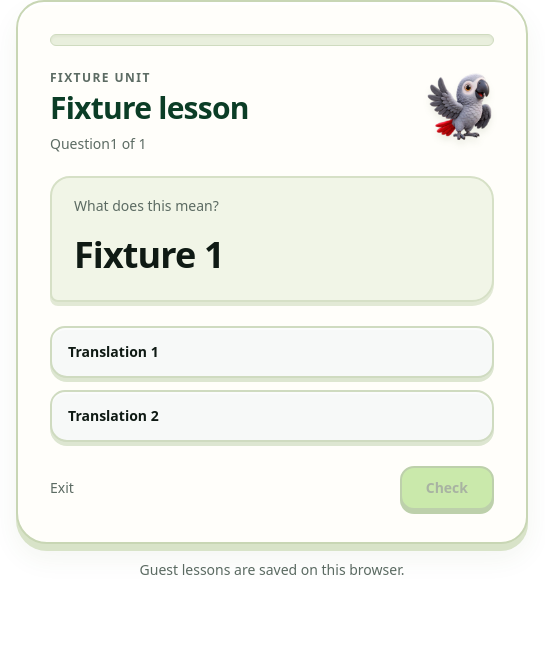
Test: blocked browser storage cannot produce a false saved message and exposes retry
Click the button "Translation 1".
click(113, 352)  # box x1=50 y1=326 x2=494 y2=378
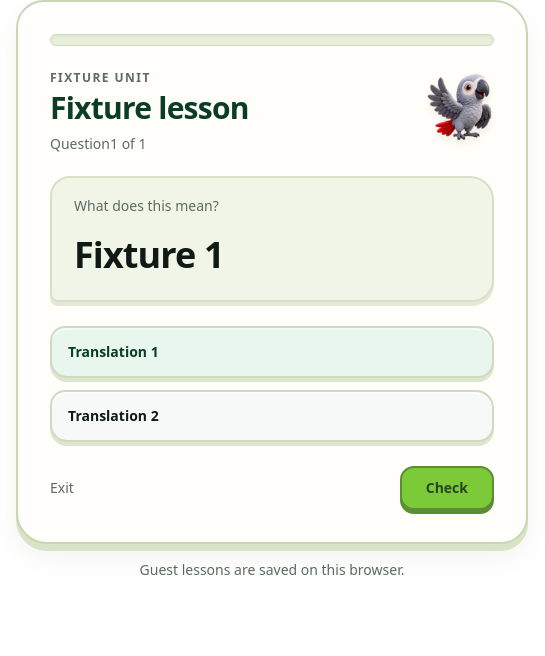
Click the button "Check".
click(447, 488)  # box x1=400 y1=466 x2=494 y2=510
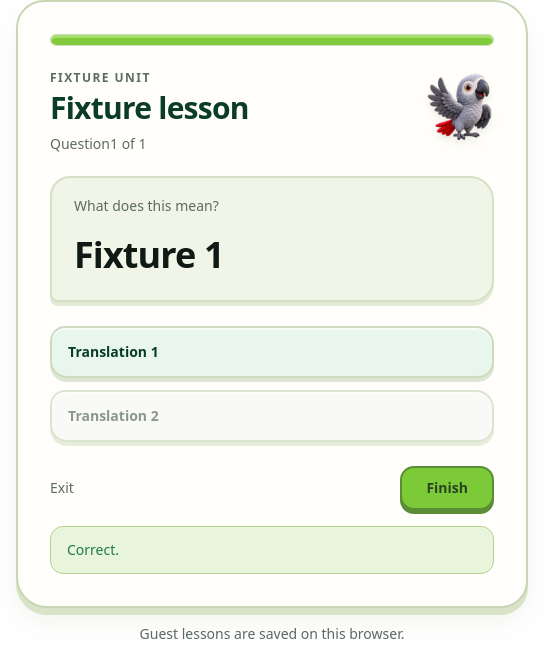
Click the button "Finish".
click(447, 488)  # box x1=400 y1=466 x2=494 y2=510
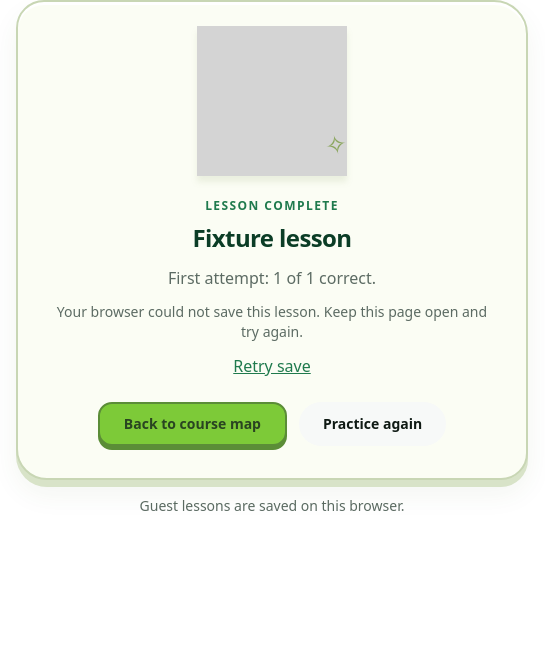
Now the text "Your browser could not save this lesson." is shown, box x1=57 y1=302 x2=487 y2=341
